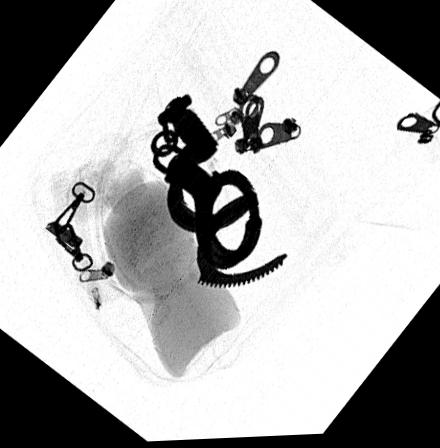HandCuffs: (147, 91, 291, 291)
